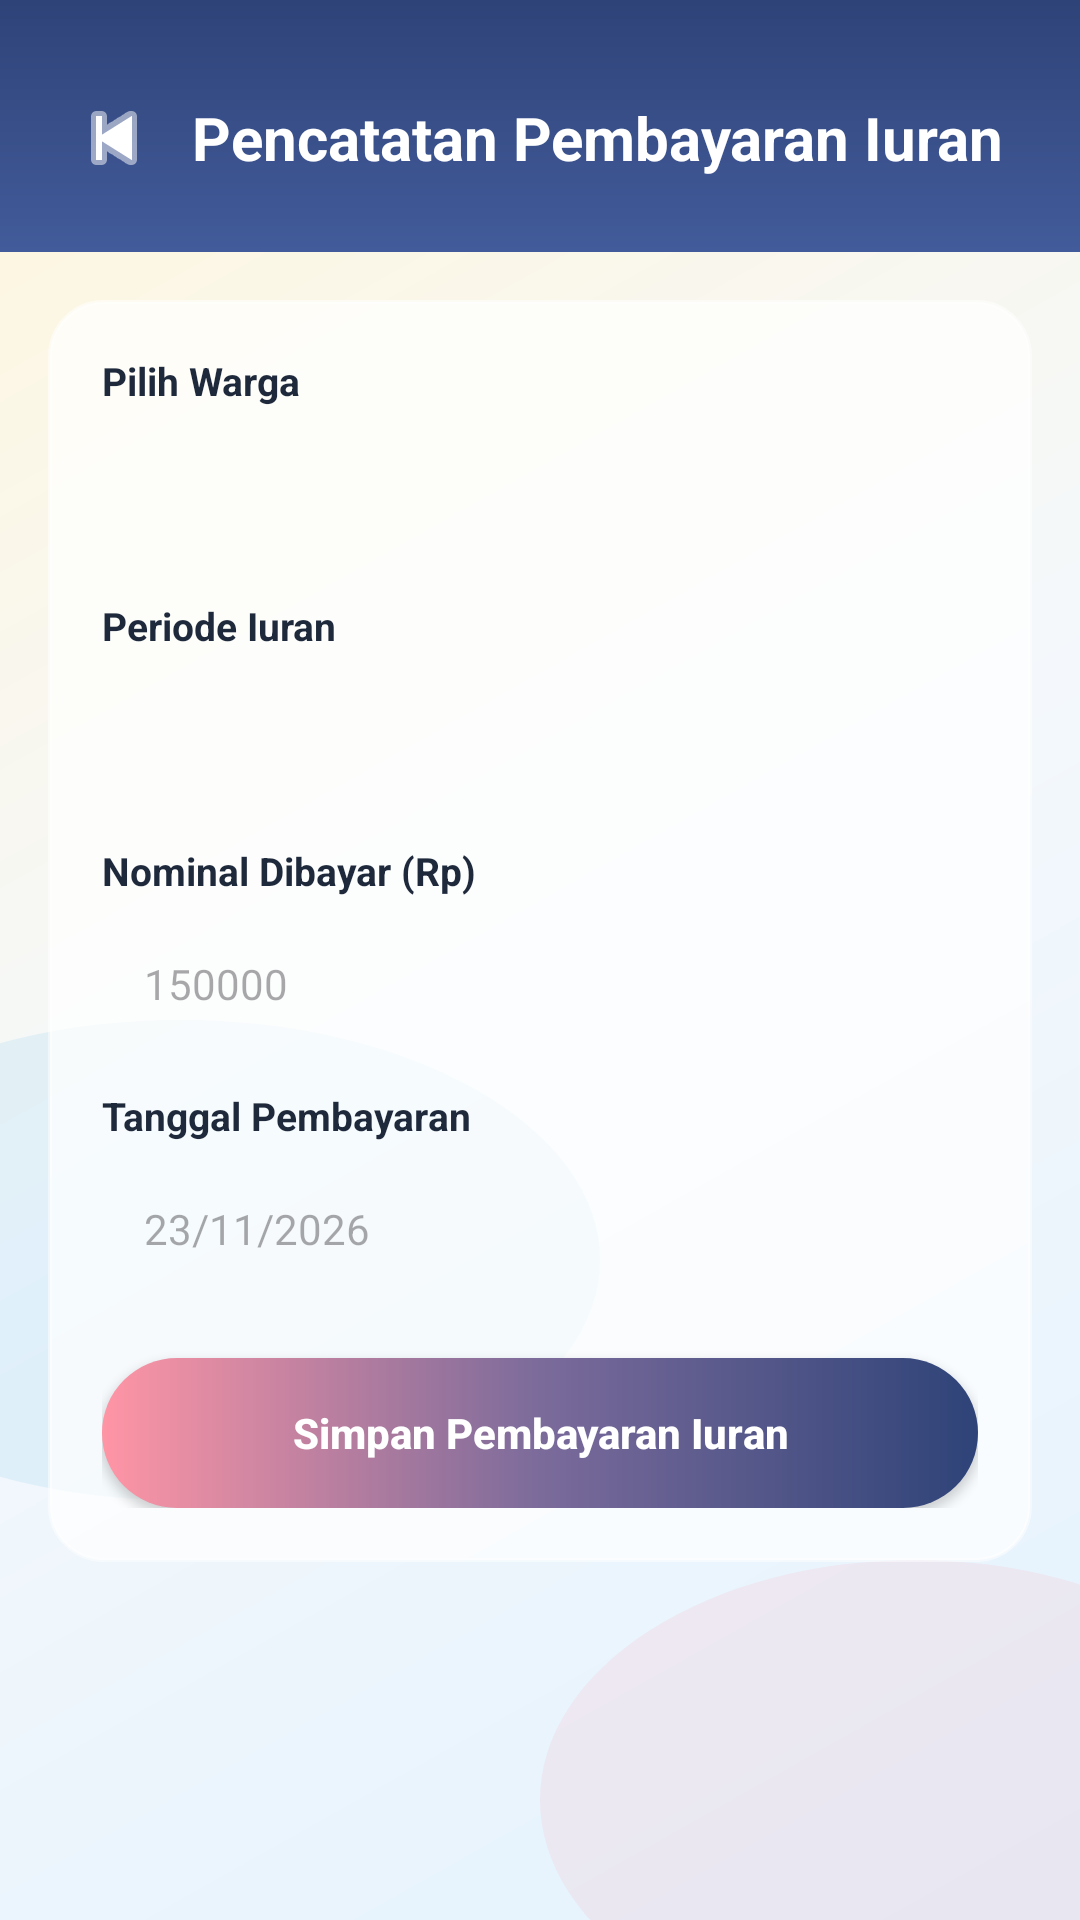

Locate icon controls on the screen. Image size 1080×1920, boxes as (x1, y1, x2, y2).
Kembali: (91, 111, 137, 165)
